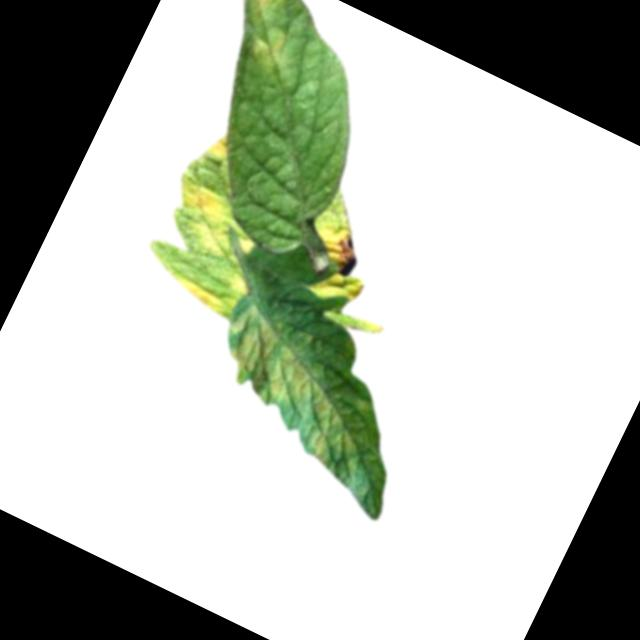Leaf_Mold: (189, 297, 404, 488), (157, 171, 271, 269), (292, 216, 384, 314), (165, 270, 233, 317), (245, 19, 296, 71), (204, 125, 238, 162), (245, 1, 296, 15)
